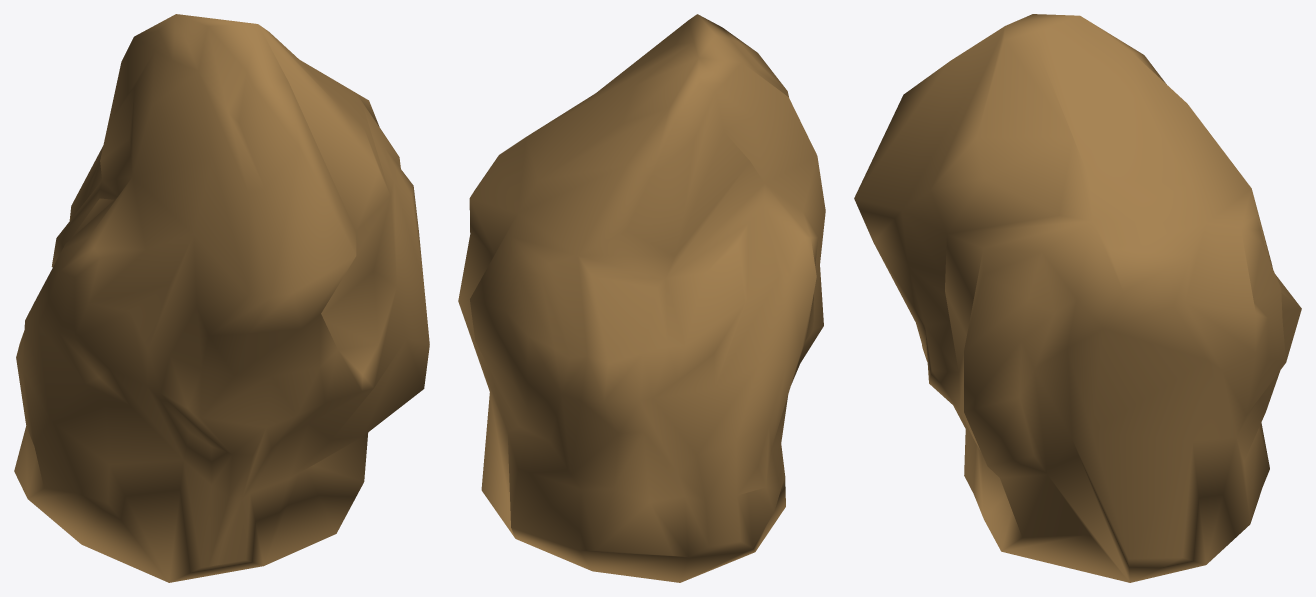
The model's file is hill1.fbx.
The picture shows the model from 3 angles, left to right: view 1: azimuth 30°, elevation 25°; view 2: azimuth 150°, elevation 25°; view 3: azimuth 270°, elevation 25°; orthographic projection. The views are drawn at different scales.
Parts seen in each view (by area): view 1: polySurface1; view 2: polySurface1; view 3: polySurface1.
Boxes of the visible parts, x1,y1,x2,y2 form: polySurface1: (14,14,429,582); polySurface1: (458,14,825,582); polySurface1: (854,14,1301,582).
Bounding box in the file's own units: 28.94 × 40.6 × 33.16.
